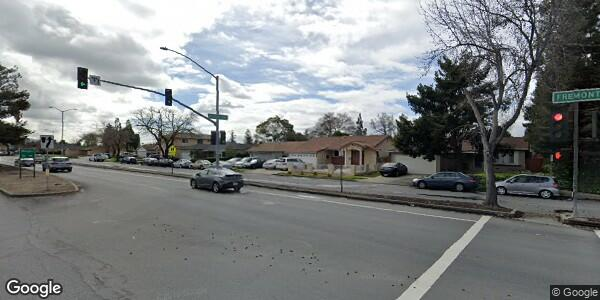Steel_Pole: (158, 45, 229, 165), (45, 105, 79, 154)
